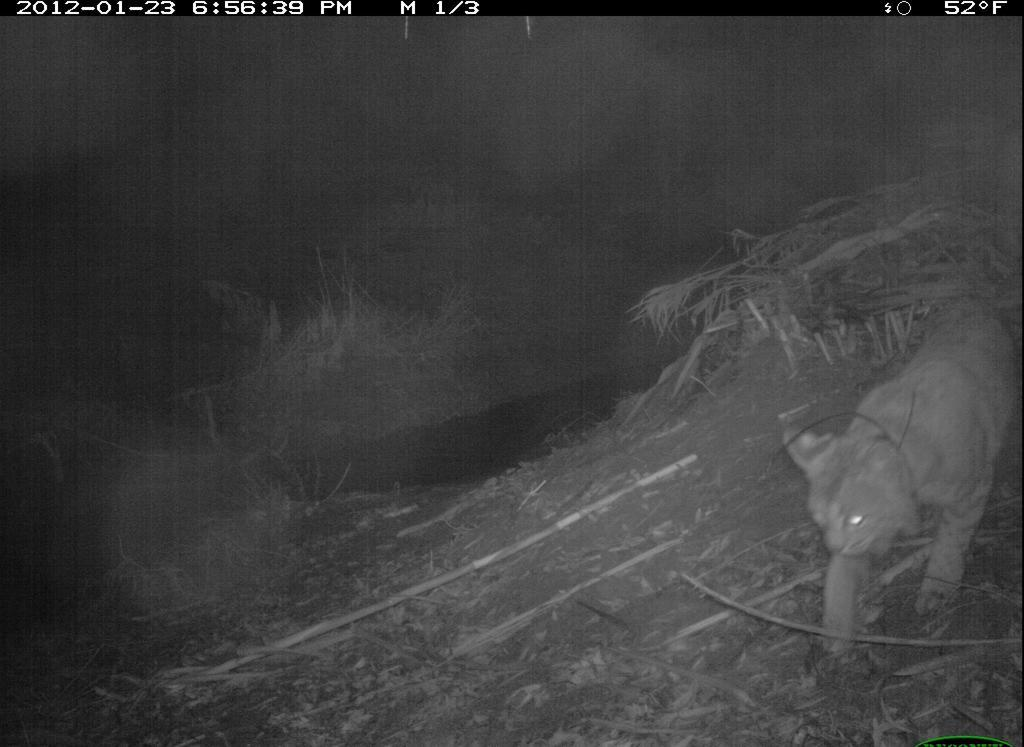bobcat: (771, 286, 1023, 696)
